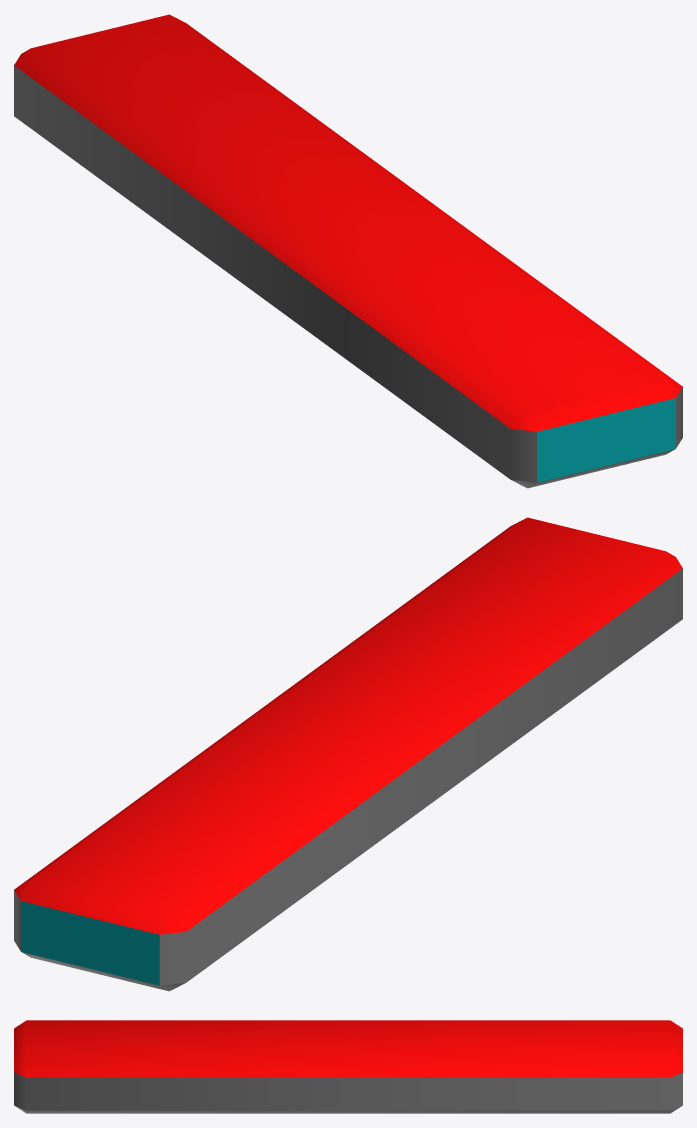
The model's file is tablón 3.fbx.
3 renders of one model, top to bottom at view 1: azimuth 30°, elevation 25°; view 2: azimuth 150°, elevation 25°; view 3: azimuth 270°, elevation 25°, orthographic. The views are drawn at different scales.
Parts seen in each view (by area): view 1: Box020; view 2: Box020; view 3: Box020.
Boxes of the visible parts, x1=… form: Box020: x1=14, y1=14, x2=682, y2=488; Box020: x1=14, y1=517, x2=682, y2=991; Box020: x1=14, y1=1020, x2=682, y2=1113.
Size of the model in its own units: 3.67 by 19.06 by 1.56.
